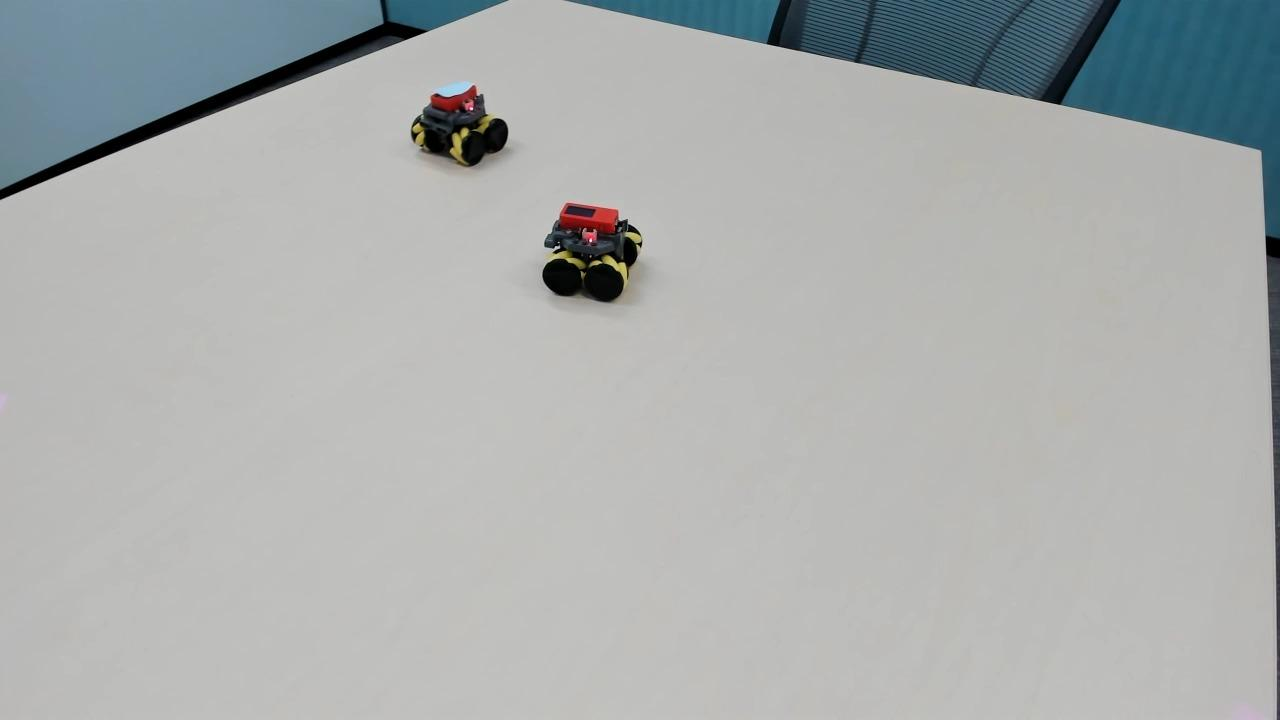B-Robot: (398, 63, 518, 171)
R-Robot: (535, 185, 652, 316)
